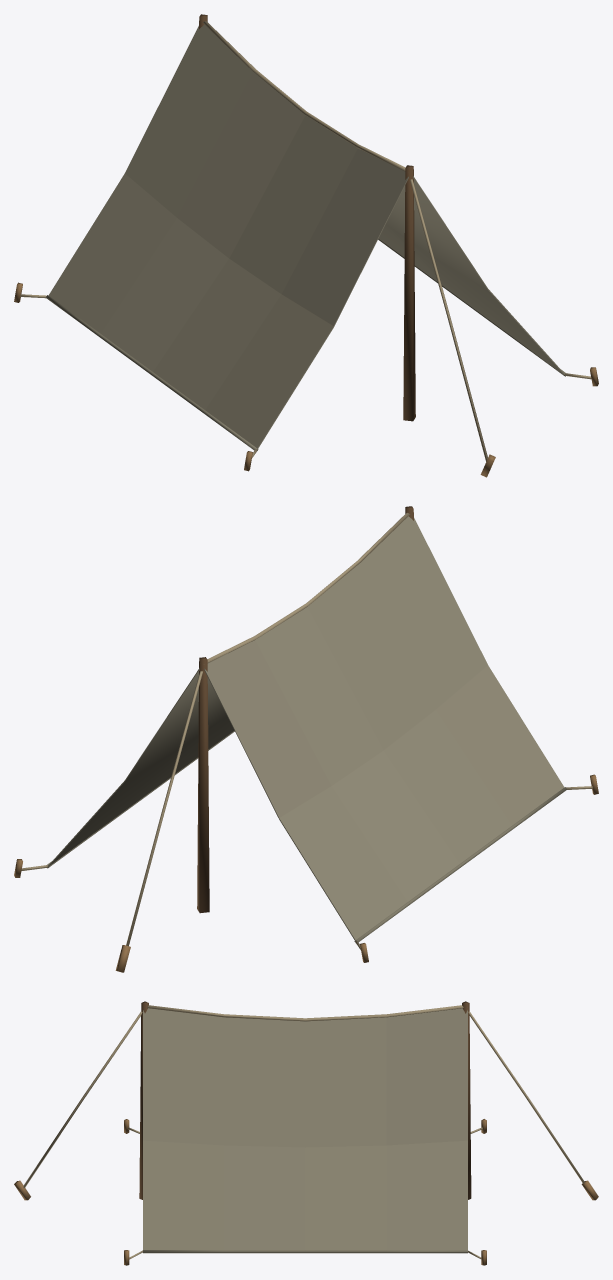
Rendered from hemp_ridge_tent_lod1.glb.
3 renders of one model, top to bottom at view 1: azimuth 30°, elevation 25°; view 2: azimuth 150°, elevation 25°; view 3: azimuth 270°, elevation 25°, orthographic. The views are drawn at different scales.
Parts seen in each view (by area): view 1: hemp_ridge_tent.001; view 2: hemp_ridge_tent.001; view 3: hemp_ridge_tent.001.
Boxes of the visible parts, bbox=[...] form: hemp_ridge_tent.001: bbox=[14, 14, 598, 477]; hemp_ridge_tent.001: bbox=[14, 506, 598, 972]; hemp_ridge_tent.001: bbox=[14, 1001, 598, 1265].
Size of the model in its own units: 2.94 by 2.01 by 5.4.
